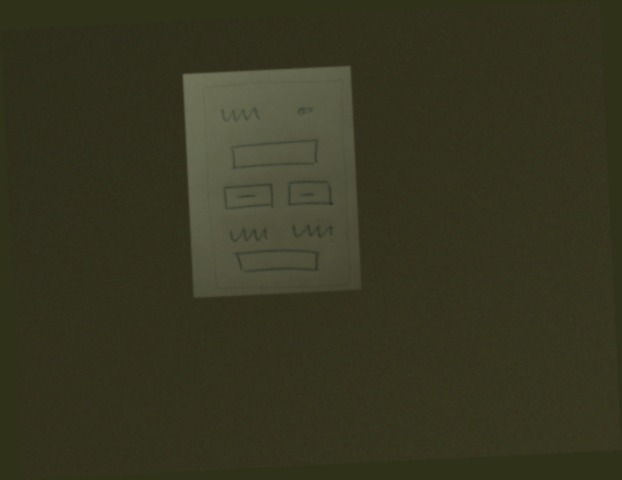button: (220, 180, 279, 213), (282, 175, 337, 210)
switch: (294, 100, 316, 121)
text: (287, 216, 335, 244), (224, 221, 272, 247), (216, 103, 263, 126)
text_input: (226, 135, 322, 173), (228, 246, 324, 279)
